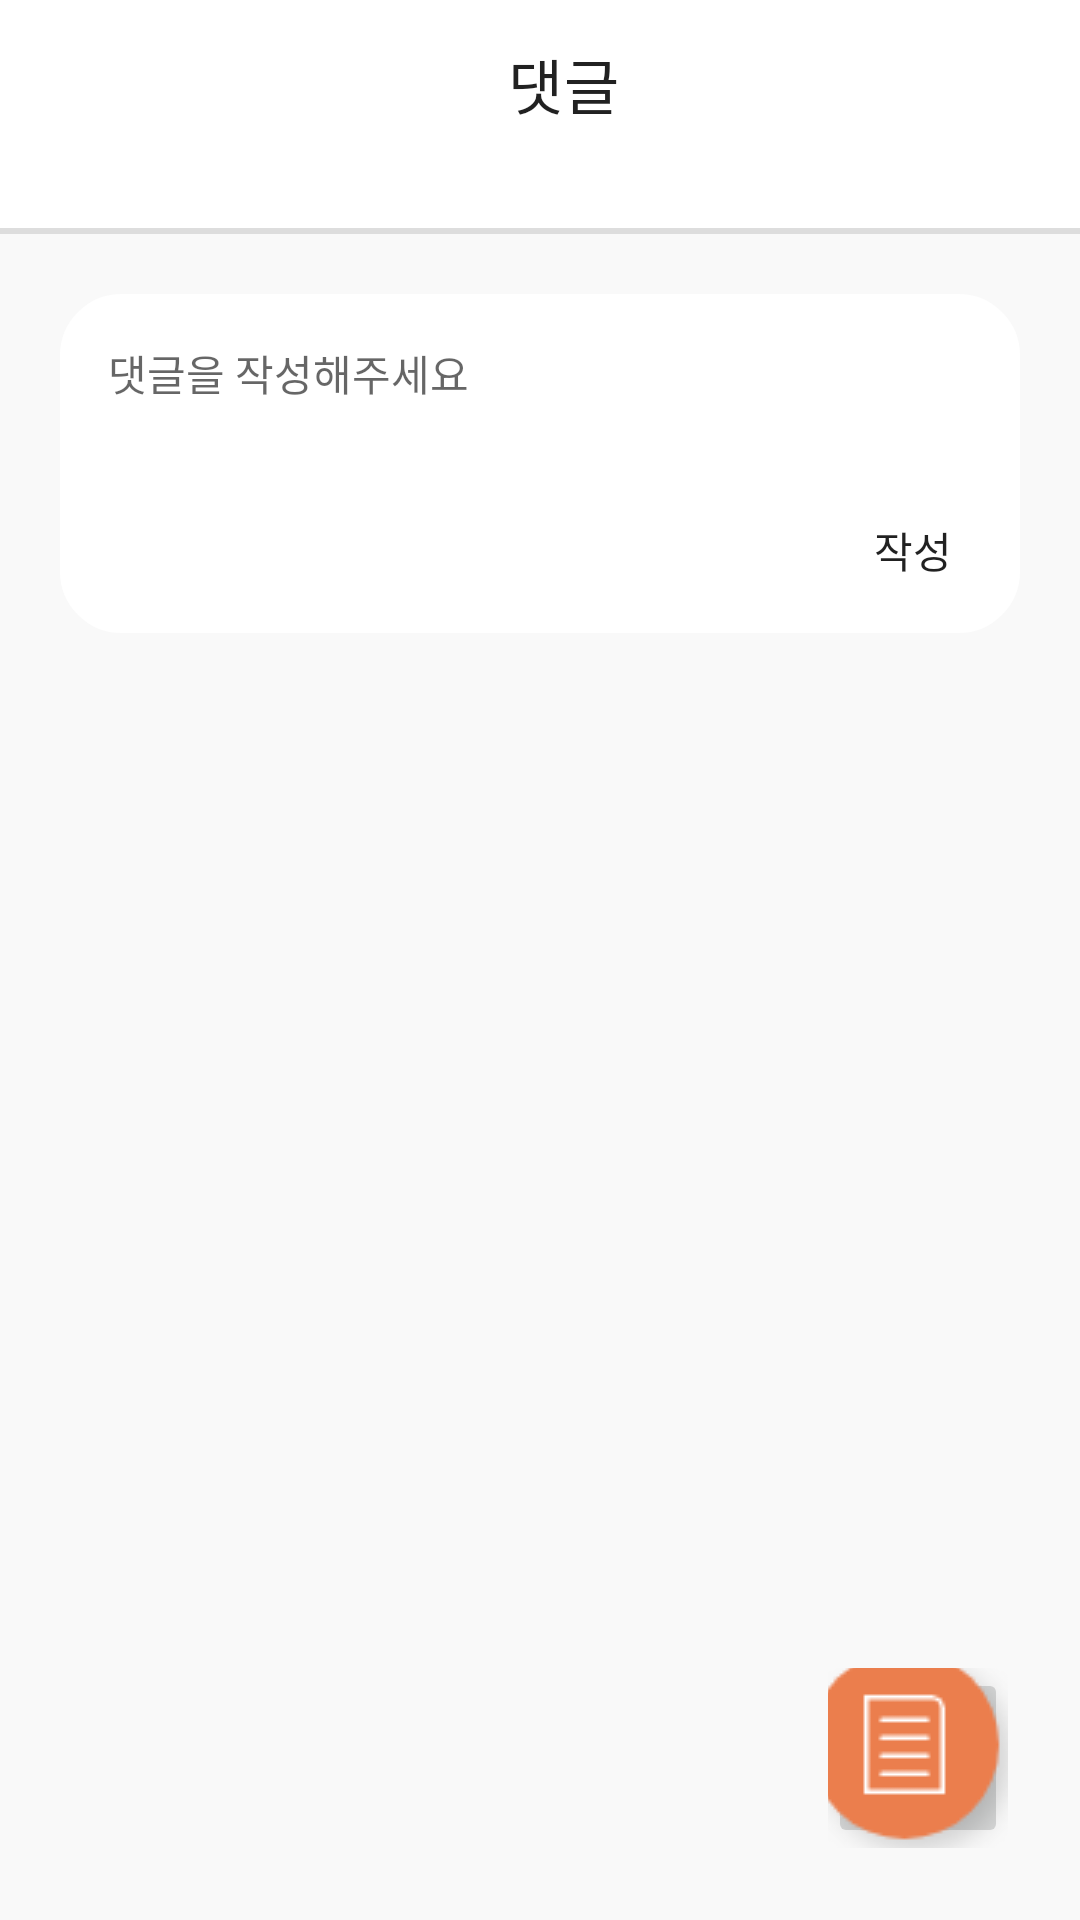

Named icons in this screenshot (1080w x 1920h) and their bounding boxes, {"left": x1, "top": y1, "right": x2, "bottom": y2}:
post: {"left": 828, "top": 1668, "right": 1006, "bottom": 1846}
